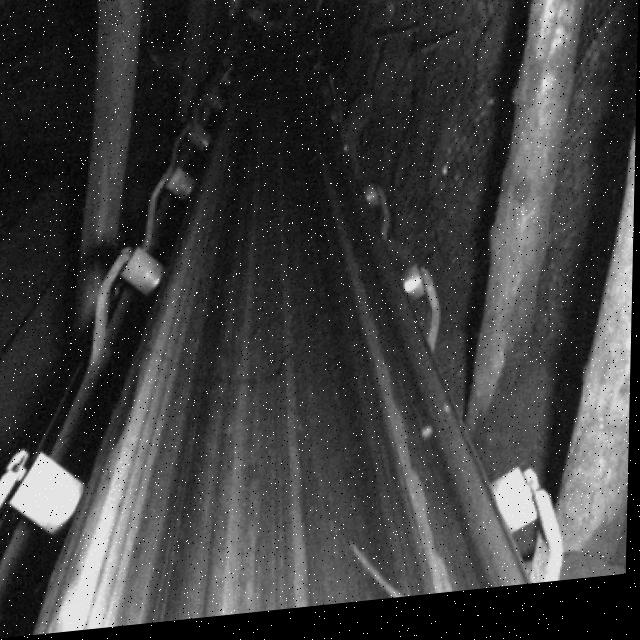bolt: (344, 543, 426, 611)
